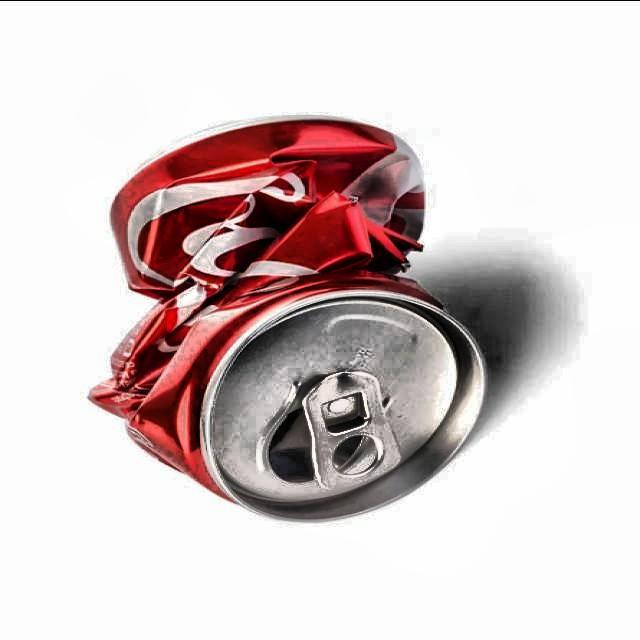metal: (87, 116, 489, 525)
